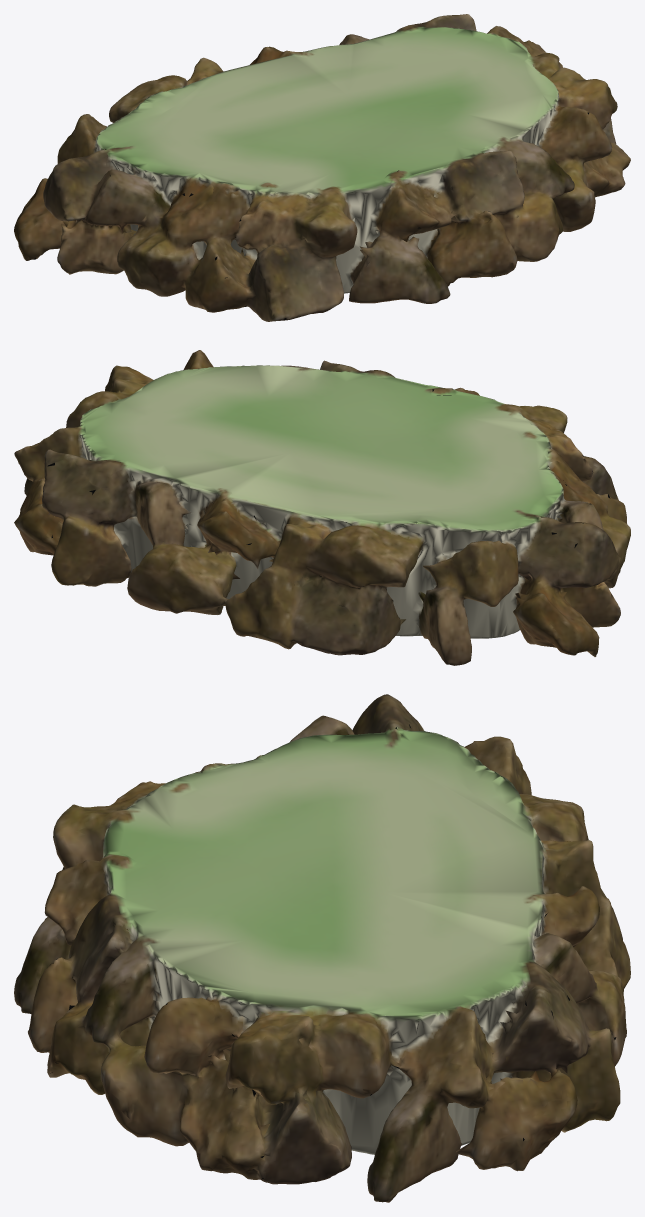
The model's file is continuous_island_v7_1.glb.
3 renders of one model, top to bottom at view 1: azimuth 30°, elevation 25°; view 2: azimuth 150°, elevation 25°; view 3: azimuth 270°, elevation 25°, orthographic. The views are drawn at different scales.
Parts seen in each view (by area): view 1: Continuous_manifold_weathered_island_2; view 2: Continuous_manifold_weathered_island_2; view 3: Continuous_manifold_weathered_island_2.
Boxes of the visible parts, x1,y1,x2,y2 form: Continuous_manifold_weathered_island_2: (14,14,630,321); Continuous_manifold_weathered_island_2: (14,350,630,665); Continuous_manifold_weathered_island_2: (14,694,630,1202).
Size of the model in its own units: 35.53 by 6.83 by 24.27.
Materials: 1 (1 with a texture image).
